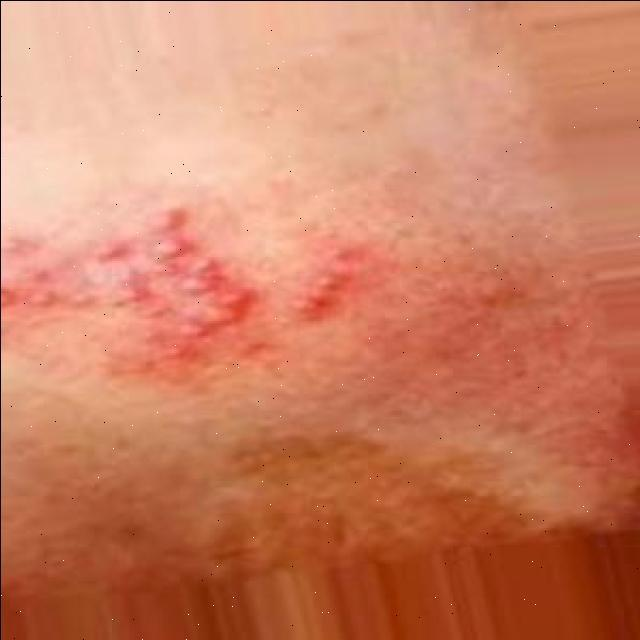Shingles: (0, 207, 354, 347)
